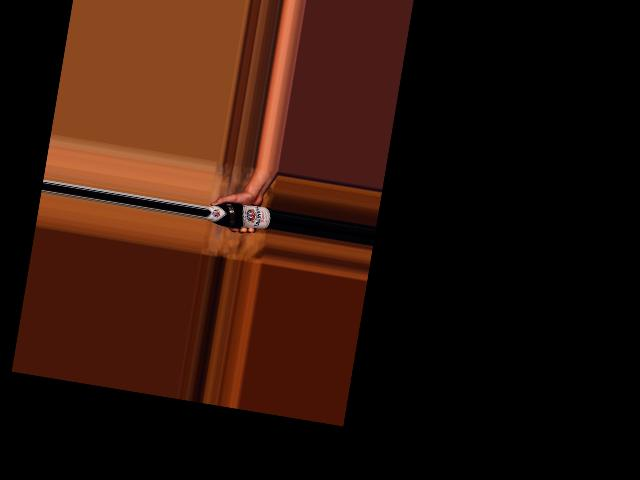beer: (206, 197, 273, 233)
